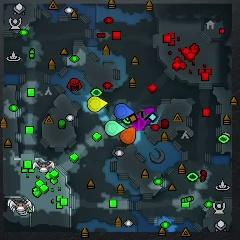Other: (132, 117, 146, 131)
p1: (115, 103, 135, 119)
p2: (105, 121, 124, 135)
p3: (141, 107, 155, 126)
p4: (87, 96, 108, 112)
p5: (120, 126, 136, 144)
